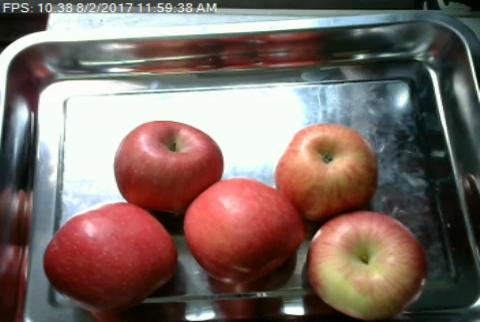apple: (43, 202, 179, 315), (309, 211, 428, 319), (185, 177, 304, 284), (115, 119, 225, 209), (275, 124, 377, 216)
